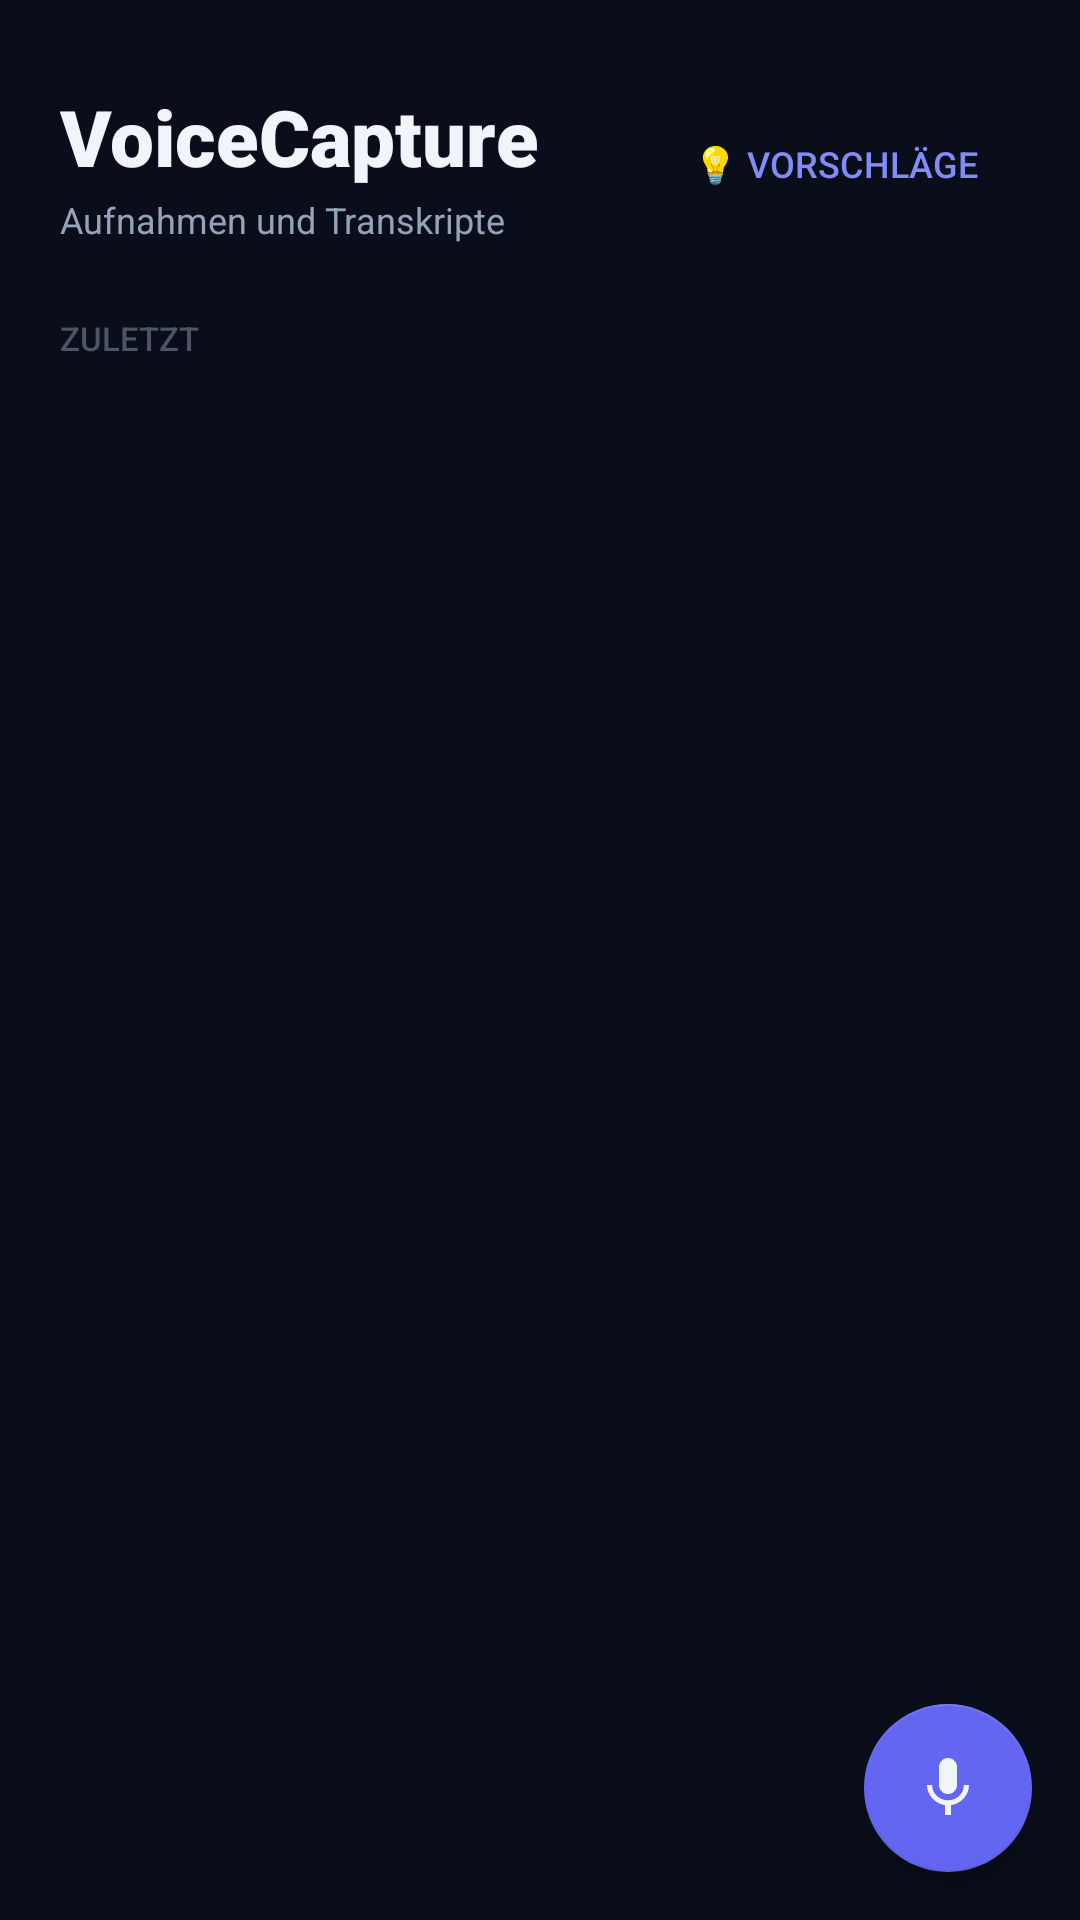

Where to tap for icons on this 1080x1920 app screen, as (x=x, y=y):
mic: (x=948, y=1788)
